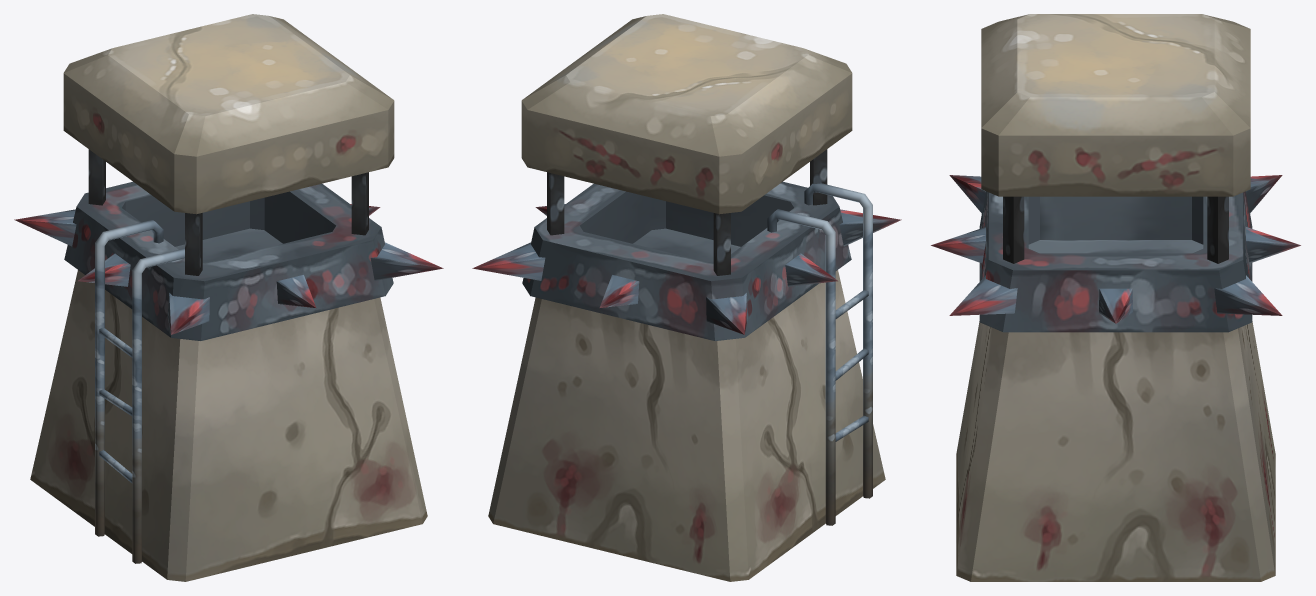
File: env_humantower_01.FBX
3 renders of one model, left to right at view 1: azimuth 30°, elevation 25°; view 2: azimuth 150°, elevation 25°; view 3: azimuth 270°, elevation 25°, orthographic. The views are drawn at different scales.
Parts seen in each view (by area): view 1: env_humantower_01; view 2: env_humantower_01; view 3: env_humantower_01.
Part boxes in pixels (bbox=[...]): env_humantower_01: bbox=[14, 14, 443, 581]; env_humantower_01: bbox=[472, 14, 901, 581]; env_humantower_01: bbox=[931, 14, 1300, 581].
Size of the model in its own units: 2.33 by 3.17 by 2.33.
1 material, 1 textured.
